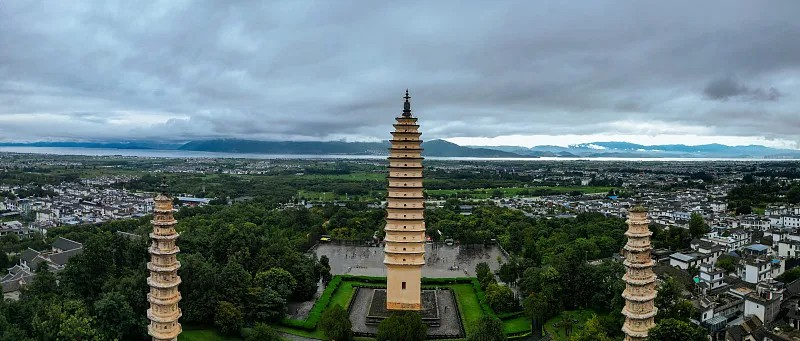ThreePagoda: (383, 88, 425, 311)
